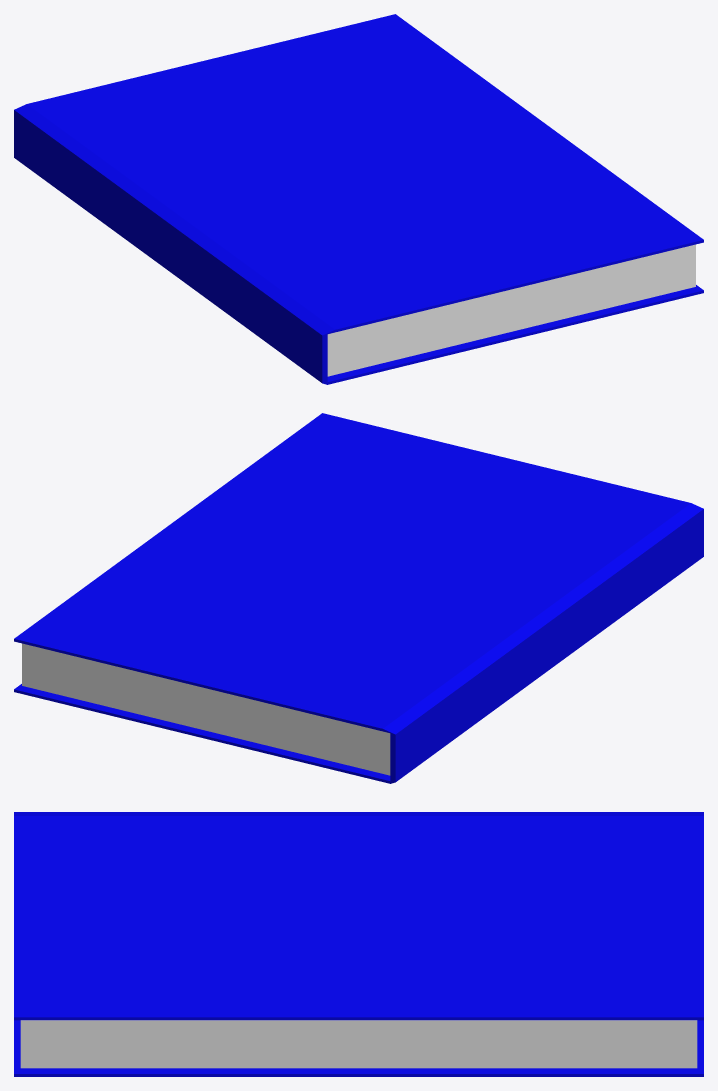
Rendered from nil_link_mesh.dae.
3 renders of one model, top to bottom at view 1: azimuth 30°, elevation 25°; view 2: azimuth 150°, elevation 25°; view 3: azimuth 270°, elevation 25°, orthographic. The views are drawn at different scales.
Visible parts, largest first — view 1: nil_link (×2); view 2: nil_link (×2); view 3: nil_link (×2).
Boxes of the visible parts, x1=… form: nil_link (×2): x1=14, y1=14, x2=703, y2=384; nil_link (×2): x1=14, y1=413, x2=703, y2=783; nil_link (×2): x1=14, y1=812, x2=703, y2=1076.
Bounding box in the file's own units: 0.15 × 0.02 × 0.21.
